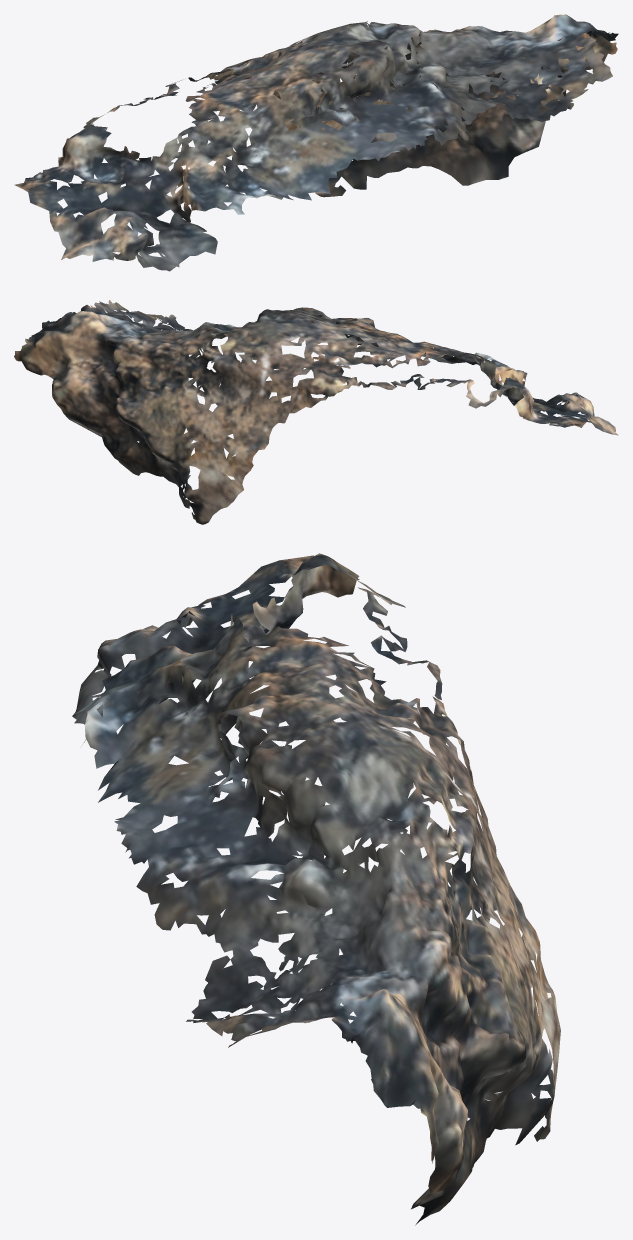
File: scan_log.glb
The picture shows the model from 3 angles, top to bottom: view 1: azimuth 30°, elevation 25°; view 2: azimuth 150°, elevation 25°; view 3: azimuth 270°, elevation 25°; orthographic projection. The views are drawn at different scales.
Parts seen in each view (by area): view 1: scan_log; view 2: scan_log; view 3: scan_log.
Part boxes in pixels (x1=…): scan_log: x1=14, y1=14, x2=618, y2=271; scan_log: x1=14, y1=300, x2=618, y2=524; scan_log: x1=72, y1=553, x2=560, y2=1225.
Size of the model in its own units: 4.5 by 1.43 by 1.77.
1 material, 1 textured.
